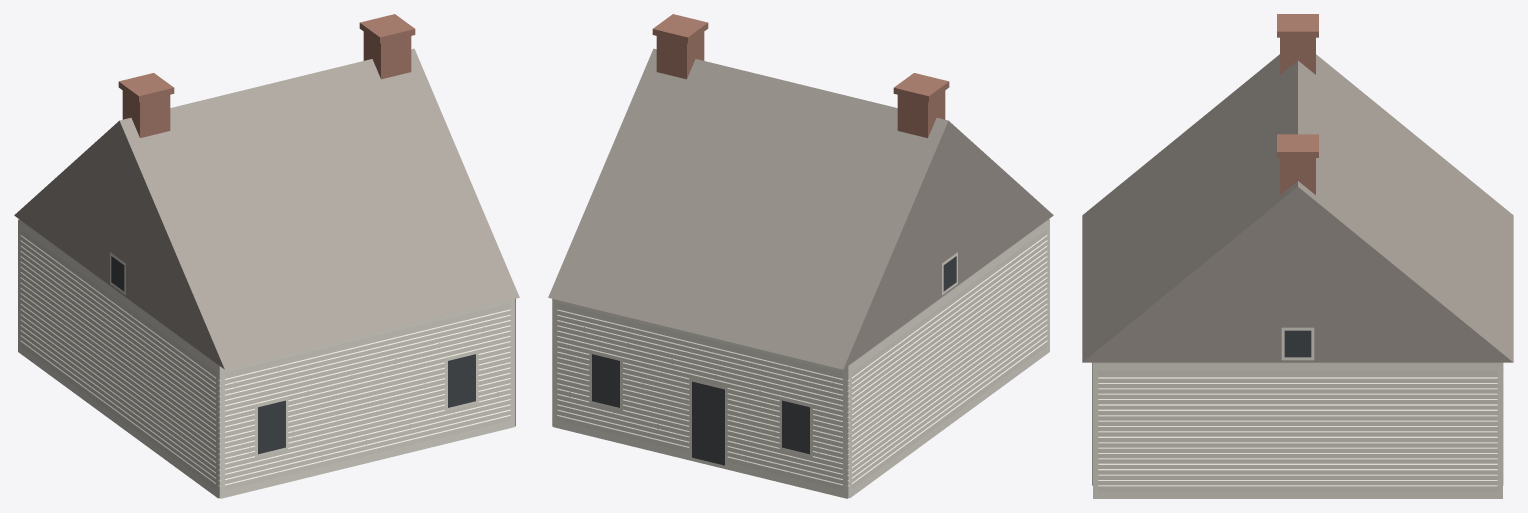
The model's file is recon_1835_north_h1_007__inferred_1835.glb.
3 views of the same model, side by side, from view 1: azimuth 30°, elevation 25°; view 2: azimuth 150°, elevation 25°; view 3: azimuth 270°, elevation 25° (orthographic). The views are drawn at different scales.
Visible parts, largest first — view 1: recon_1835_north_h1_007__inferred_1835; view 2: recon_1835_north_h1_007__inferred_1835; view 3: recon_1835_north_h1_007__inferred_1835.
Part boxes in pixels (x1,y1,x2,y2): recon_1835_north_h1_007__inferred_1835: (14,14,519,498); recon_1835_north_h1_007__inferred_1835: (548,14,1053,498); recon_1835_north_h1_007__inferred_1835: (1082,14,1513,498).
Bounding box in the file's own units: 8.3 × 8.87 × 10.15.
